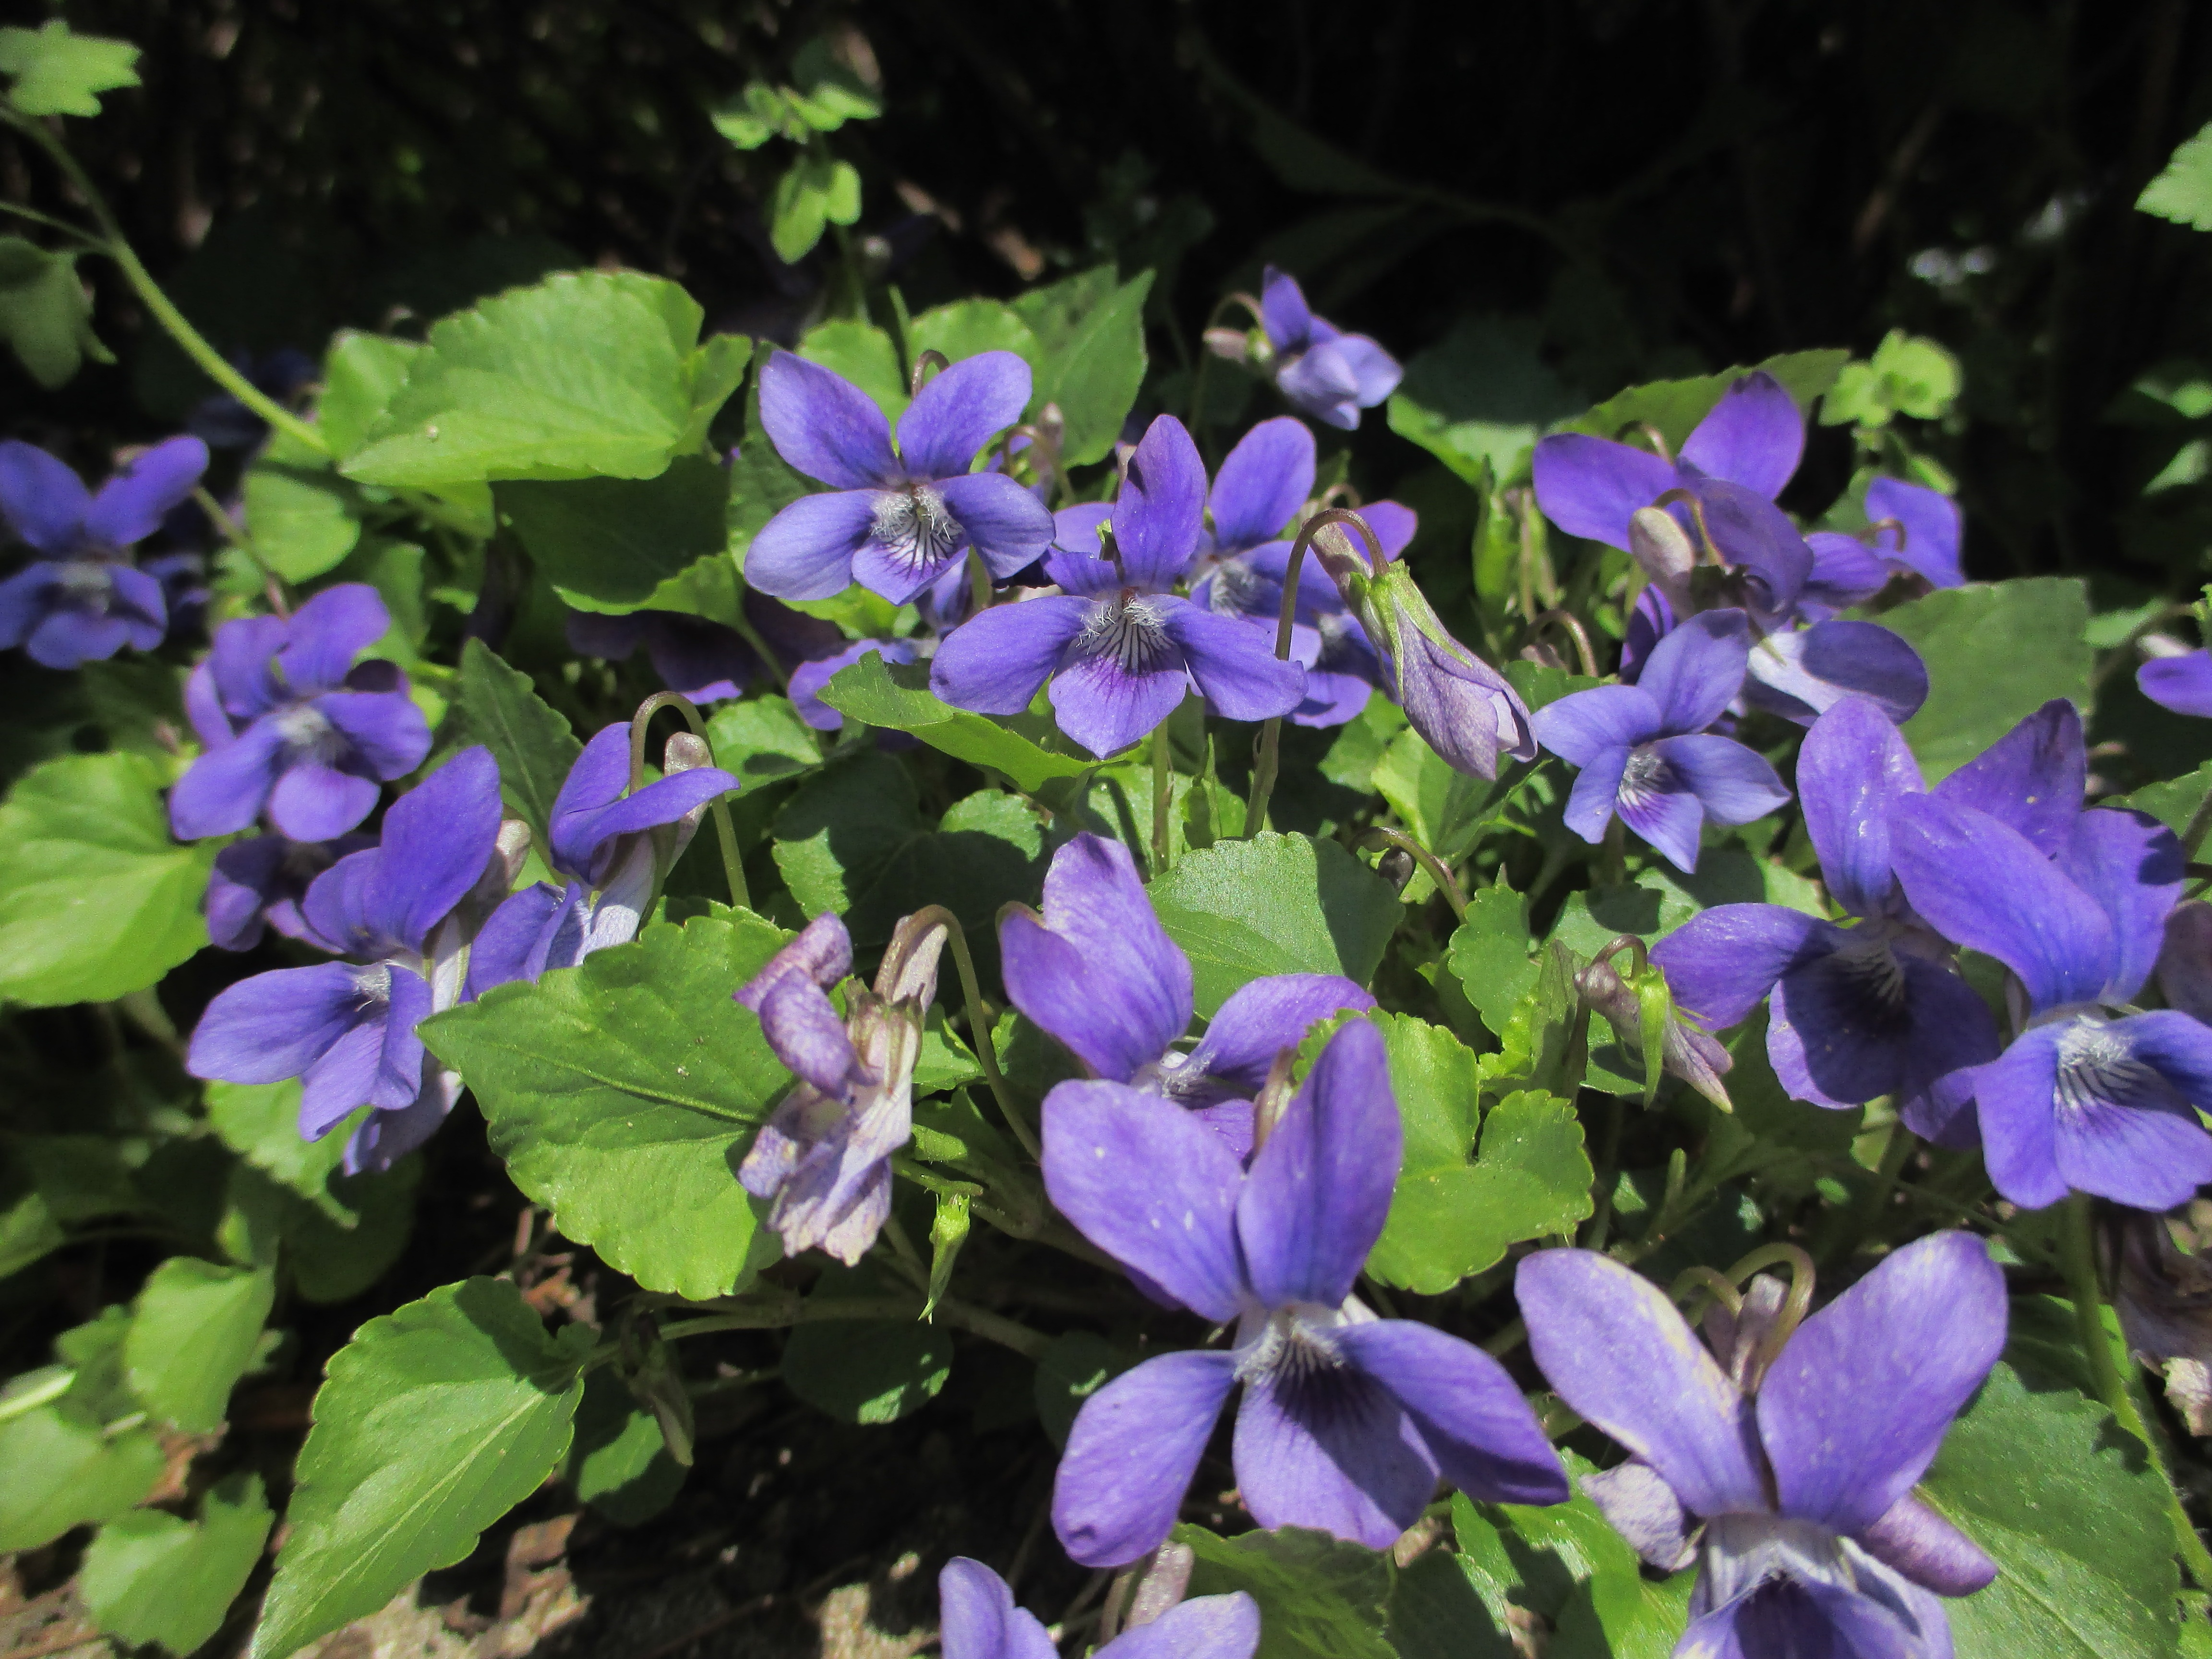violet: (153, 613, 610, 1161), (1493, 1213, 2045, 1659), (1005, 1044, 1529, 1509), (1907, 749, 2212, 1246), (1662, 681, 2015, 1105), (935, 448, 1280, 779), (700, 322, 1047, 631), (1489, 599, 1794, 866), (28, 437, 223, 678), (1176, 286, 1413, 458)
